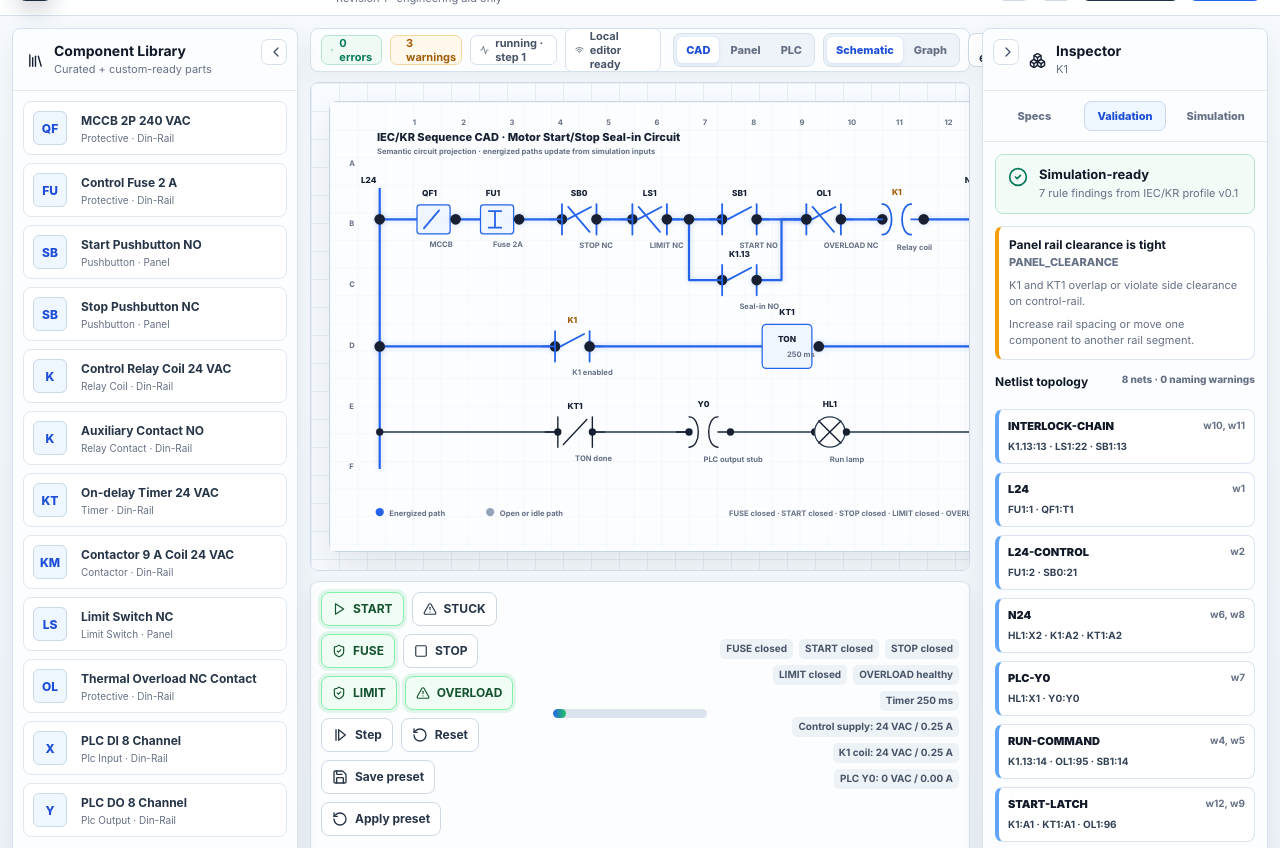
Scenario: Sequence Editor app › lets the operator reset, start, and stop the sequence simulation
Click the button "Reset".
click(440, 735)  # box [401,718,479,752]
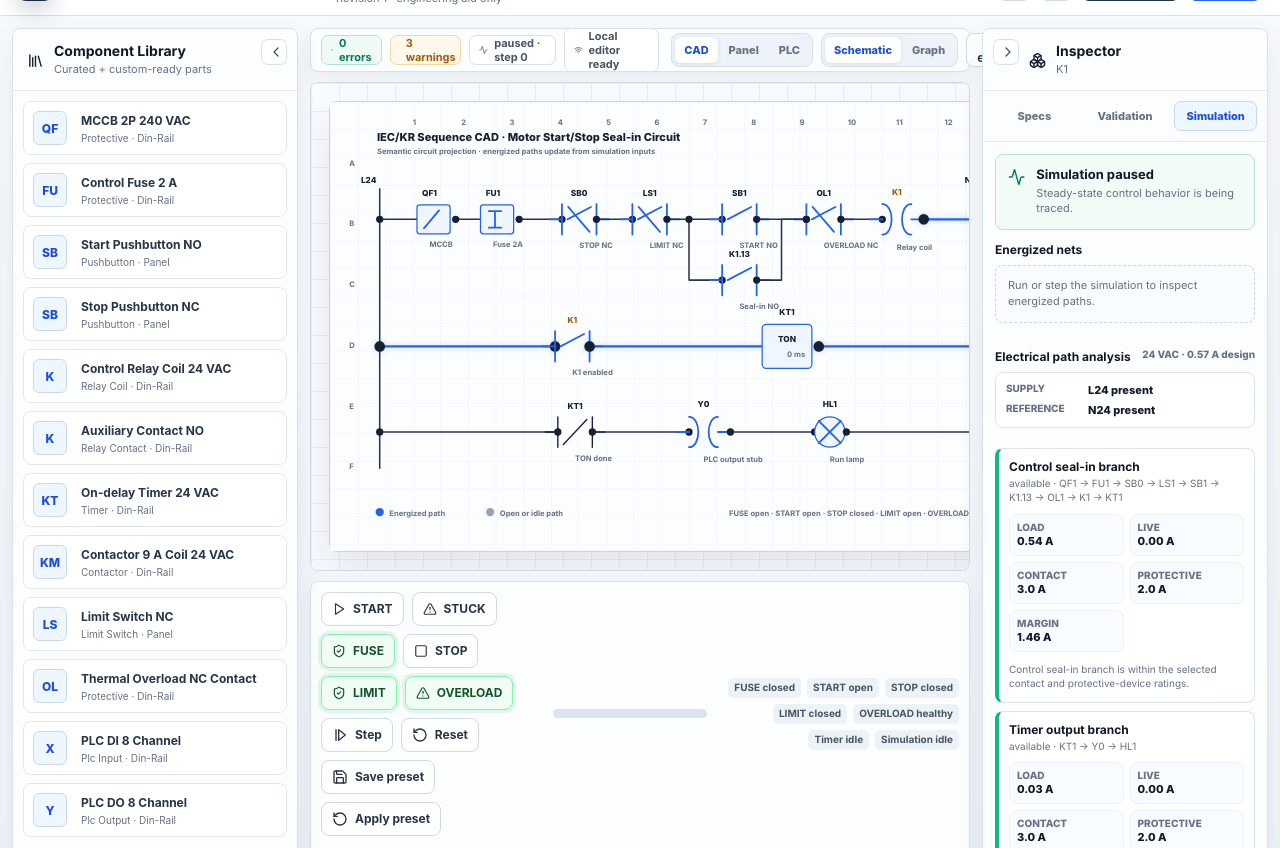
Click the button "Step".
click(357, 735)  # box [321,718,393,752]
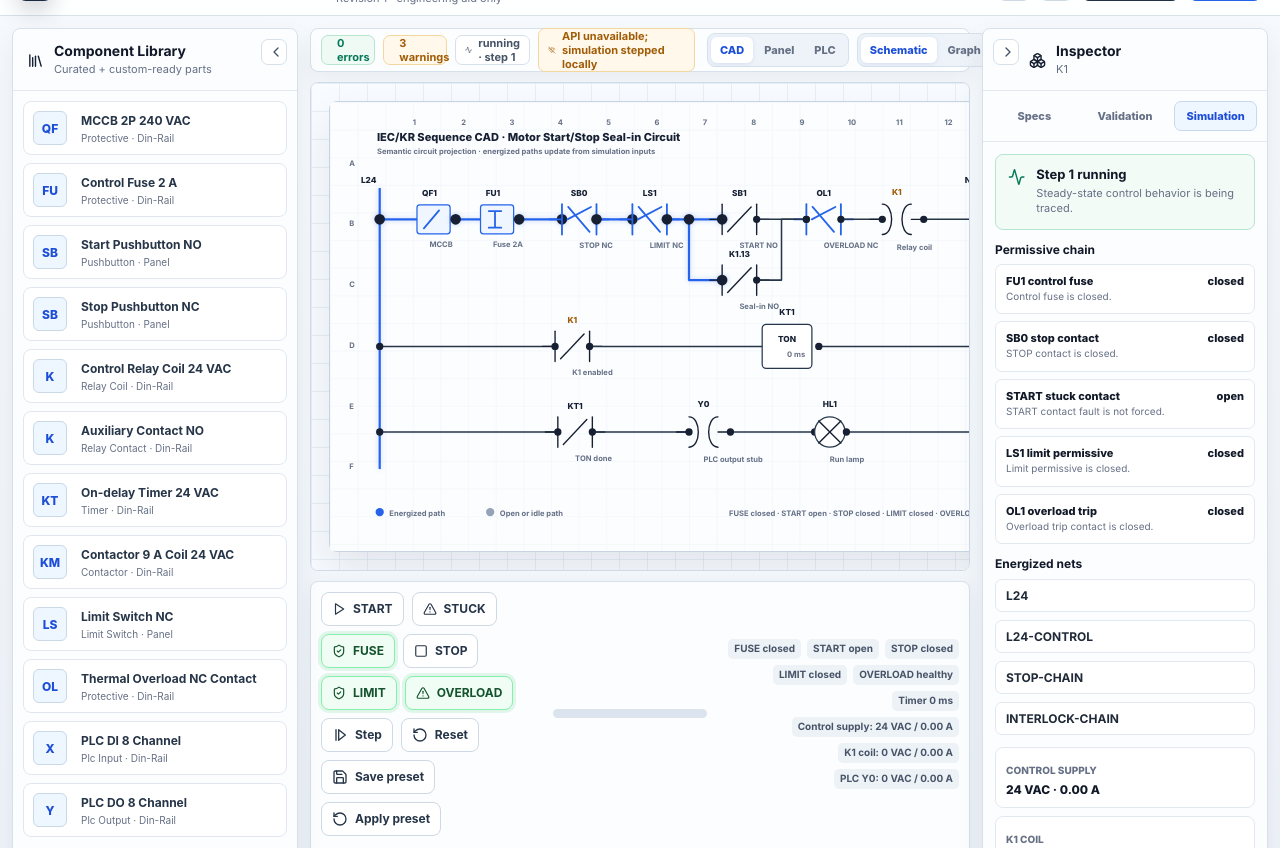
Now the text "START open" is shown, box [807,639,879,659]
Now the text "Step 1 running" is shown, box [1036,167,1127,183]
Now the text "K1 coil: 0 VAC / 0.00 A" is shown, box [838,743,959,763]
Click the button "START".
click(362, 609)  # box [321,592,404,626]
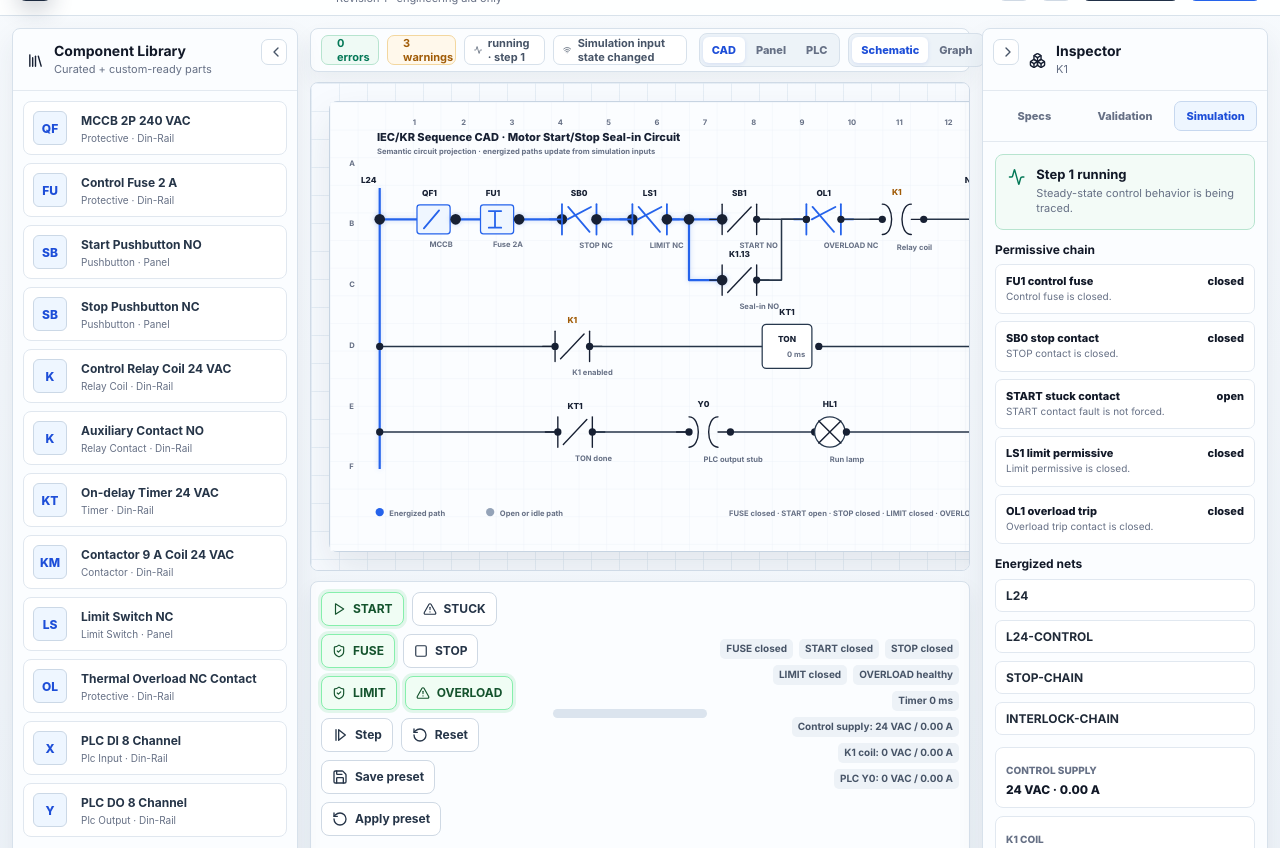
Click the button "Step".
click(357, 735)  # box [321,718,393,752]
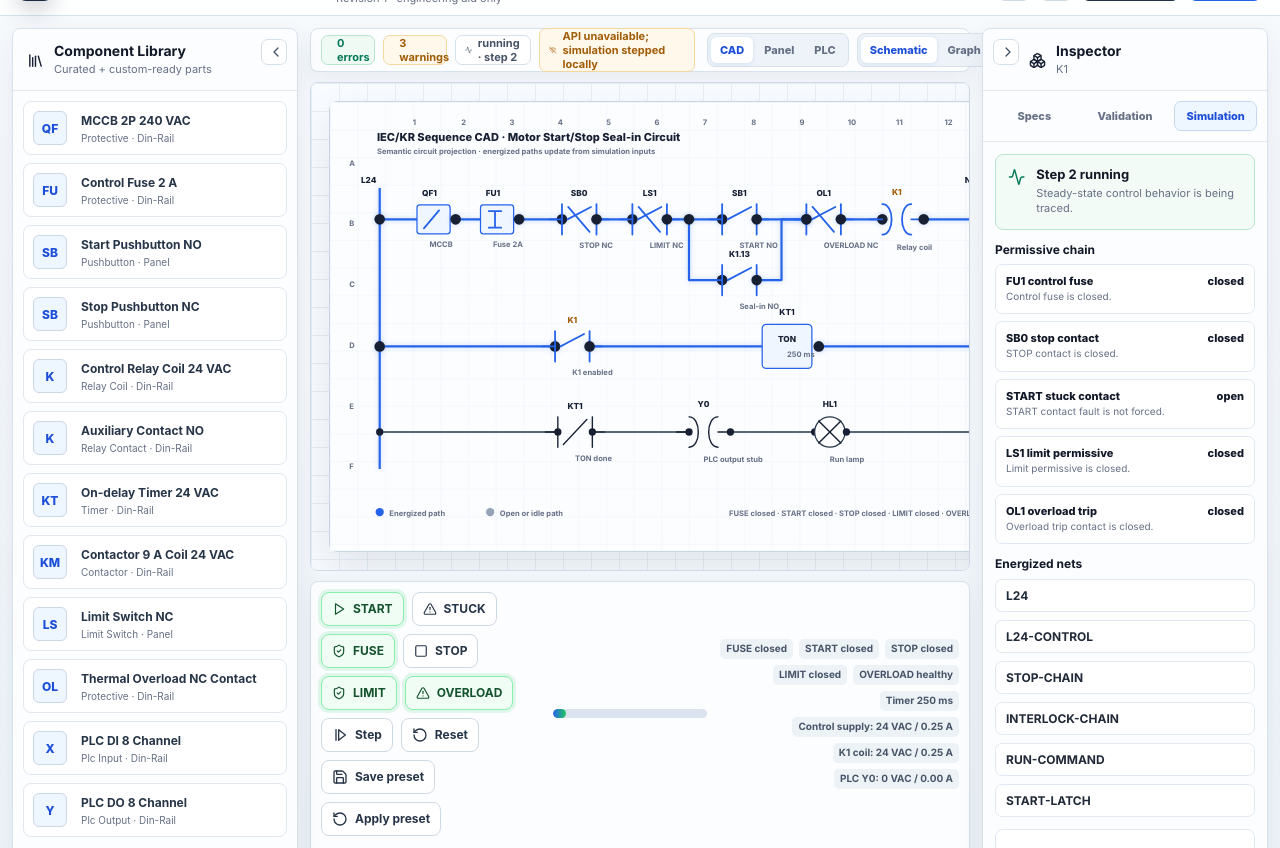
Now the text "START closed" is shown, box [799,639,879,659]
Now the text "Step 2 running" is shown, box [1036,167,1129,183]
Now the text "K1 coil: 24 VAC / 0.25 A" is shown, box [833,743,959,763]
Click the button "STOP".
click(441, 651)  # box [403,634,478,668]
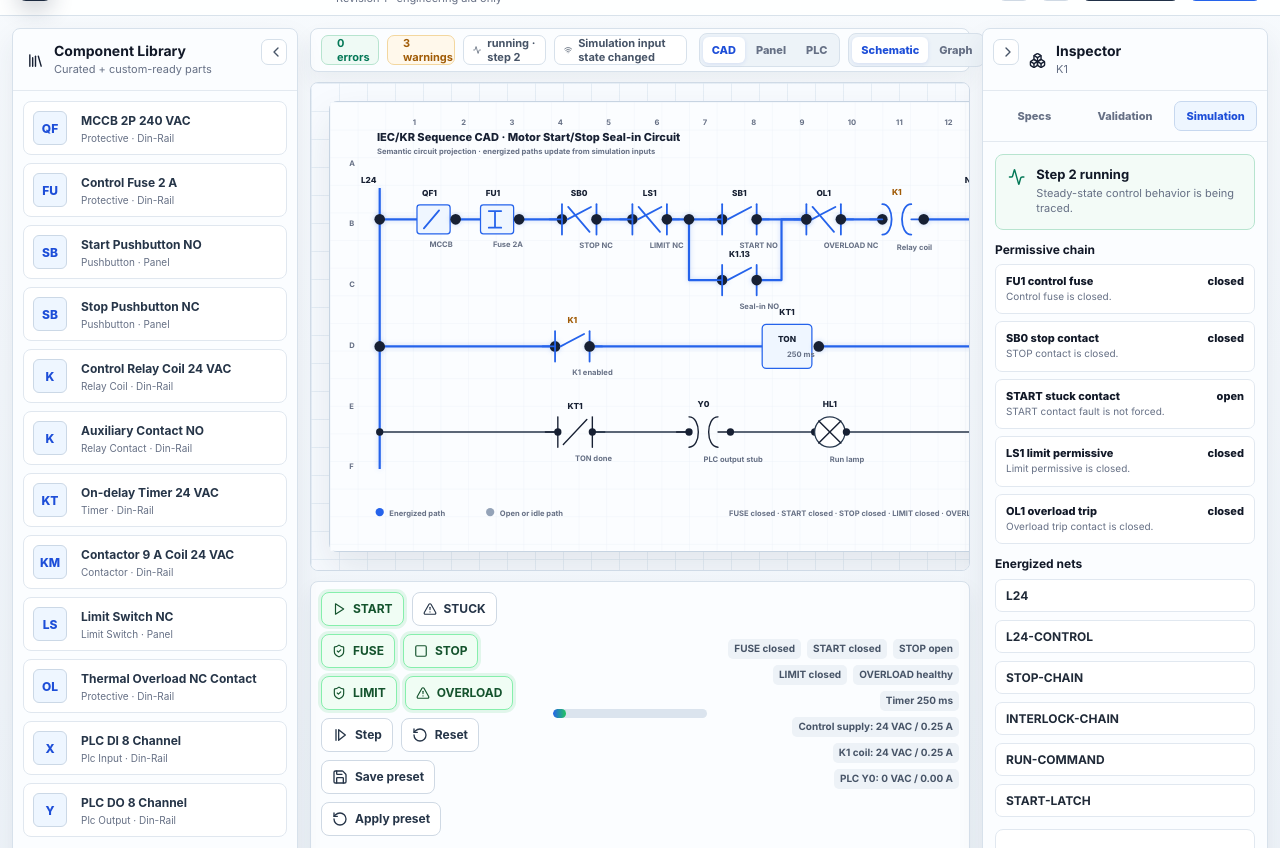
Click the button "Step".
click(357, 735)  # box [321,718,393,752]
(page scrolled)
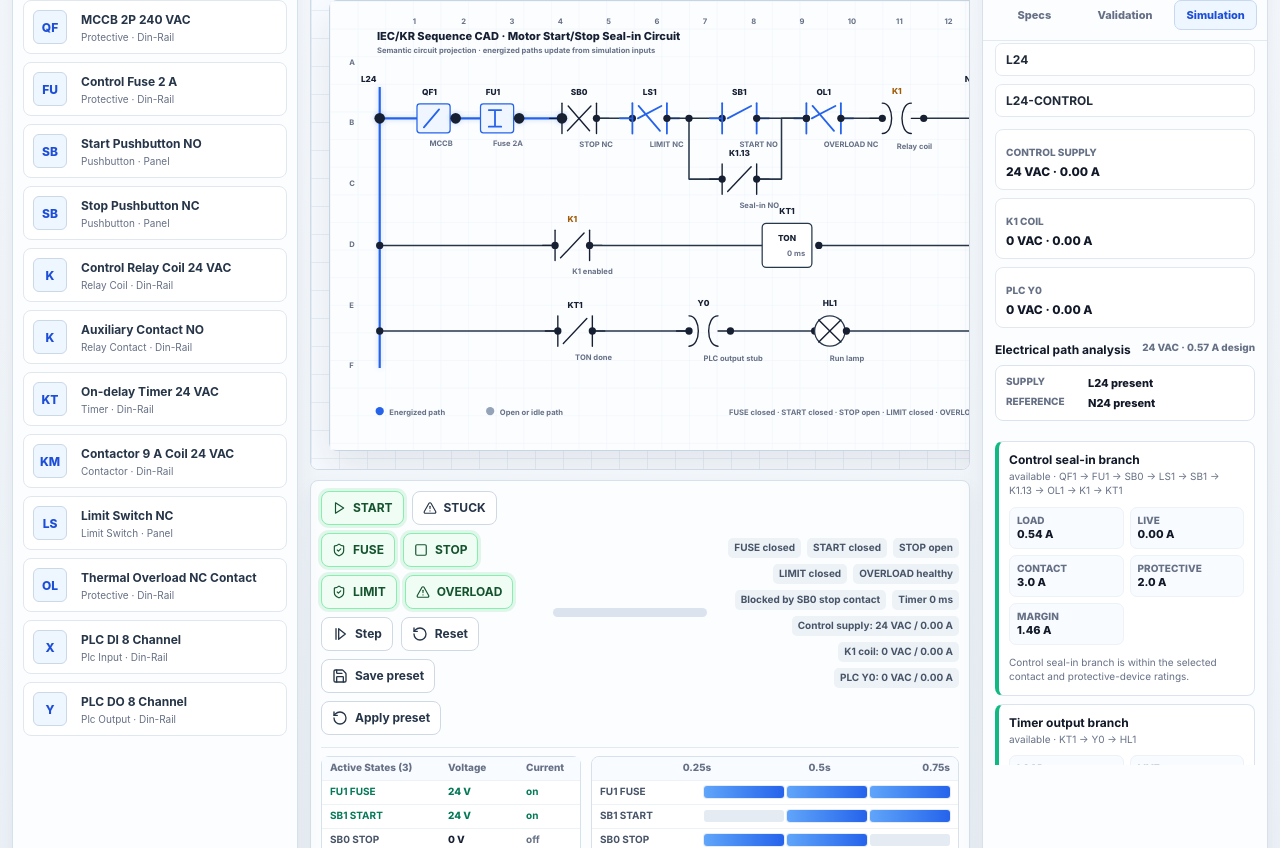
Now the text "STOP open" is shown, box [893,538,959,558]
Now the text "K1 coil: 0 VAC / 0.00 A" is shown, box [838,642,959,662]
Now the text "Active States (3)" is shown, box [330,762,412,774]
